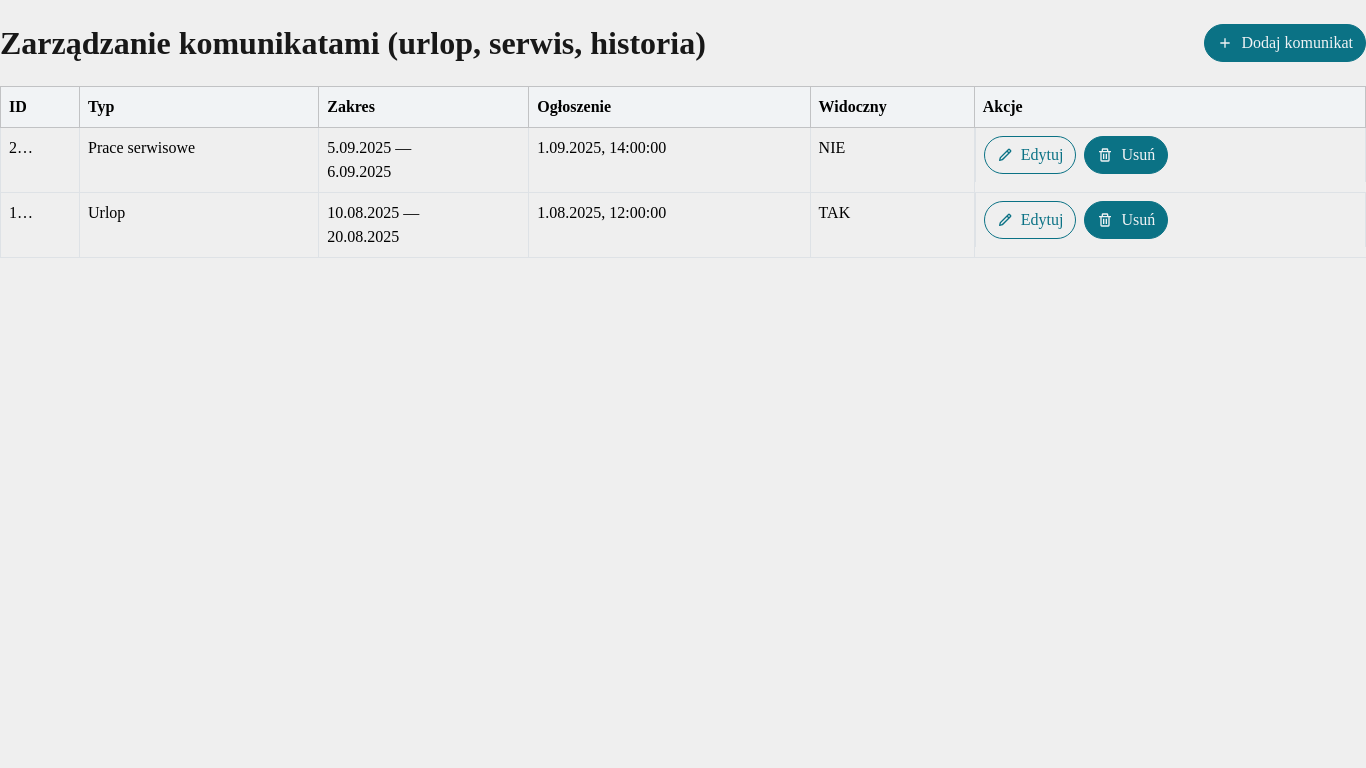
it: VacationAdminPage › deletes a banner and shows success message
Expected: the text "Urlop" is shown, [80, 193, 319, 258]
Step 1. Click the button with test id "delete-banner-1" → (1126, 220), box [1084, 201, 1168, 239]
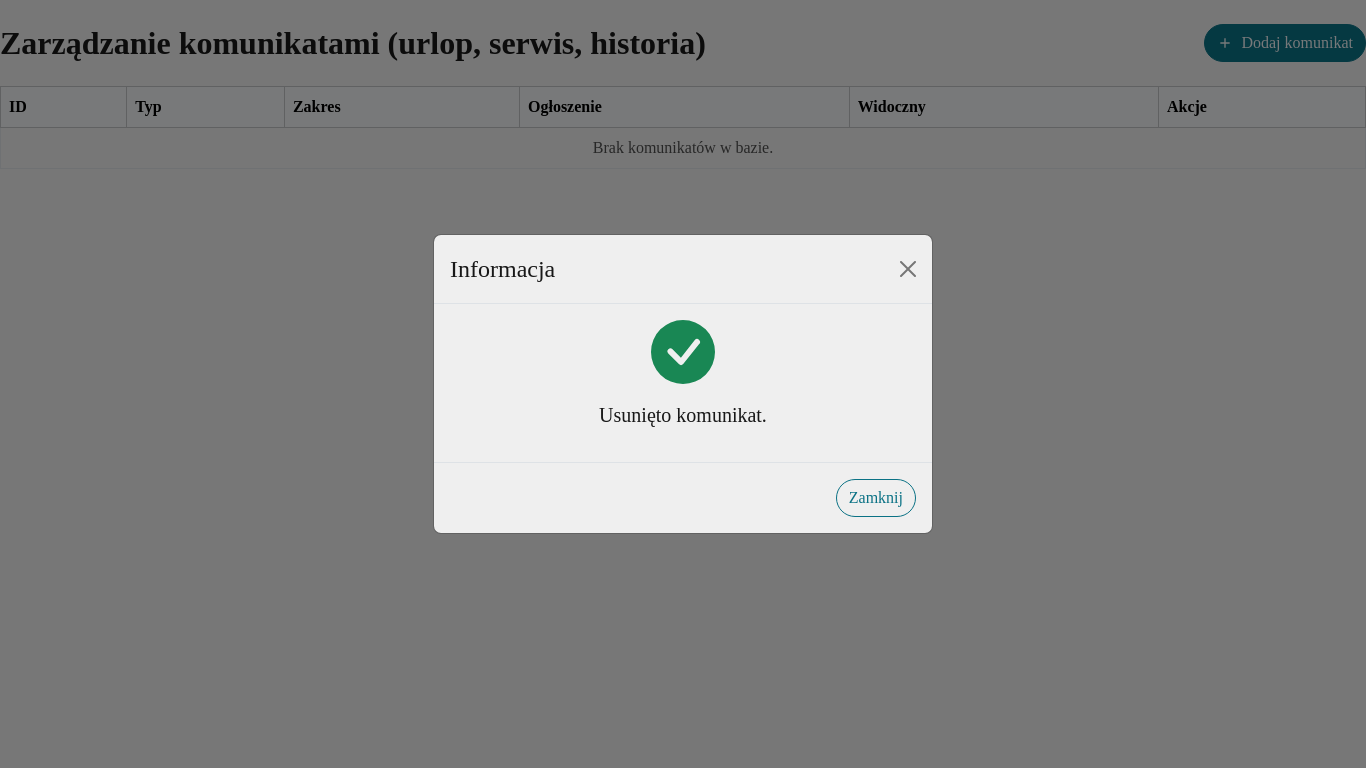
Expected: the text "Usunięto komunikat." is shown, [599, 404, 767, 426]
